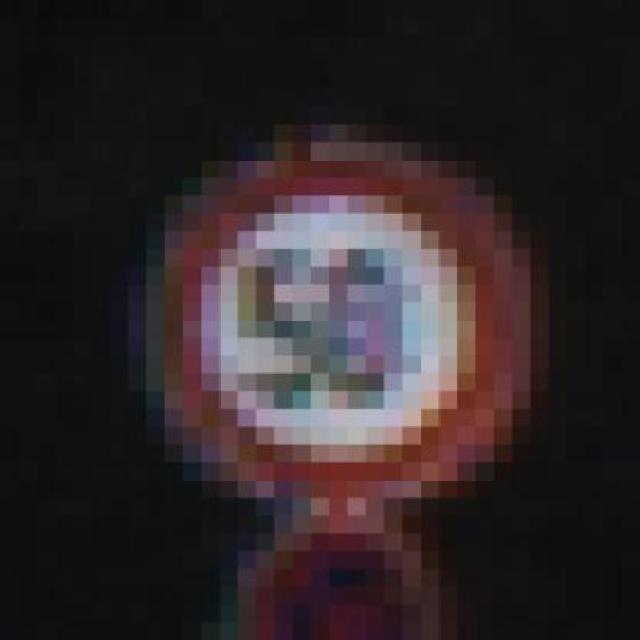50 mph speed limit: (128, 124, 568, 516)
